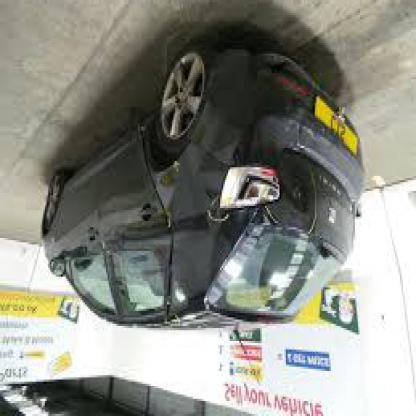dent: (151, 166, 193, 222)
